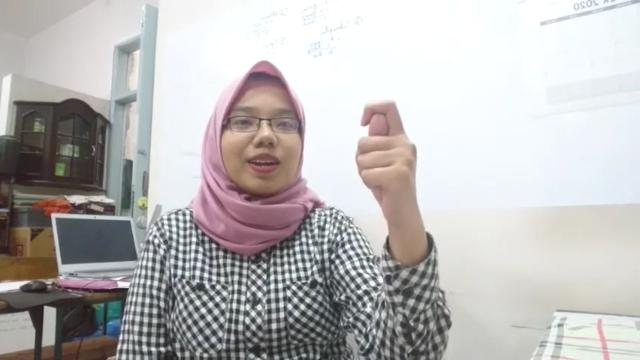T: (354, 100, 418, 206)
